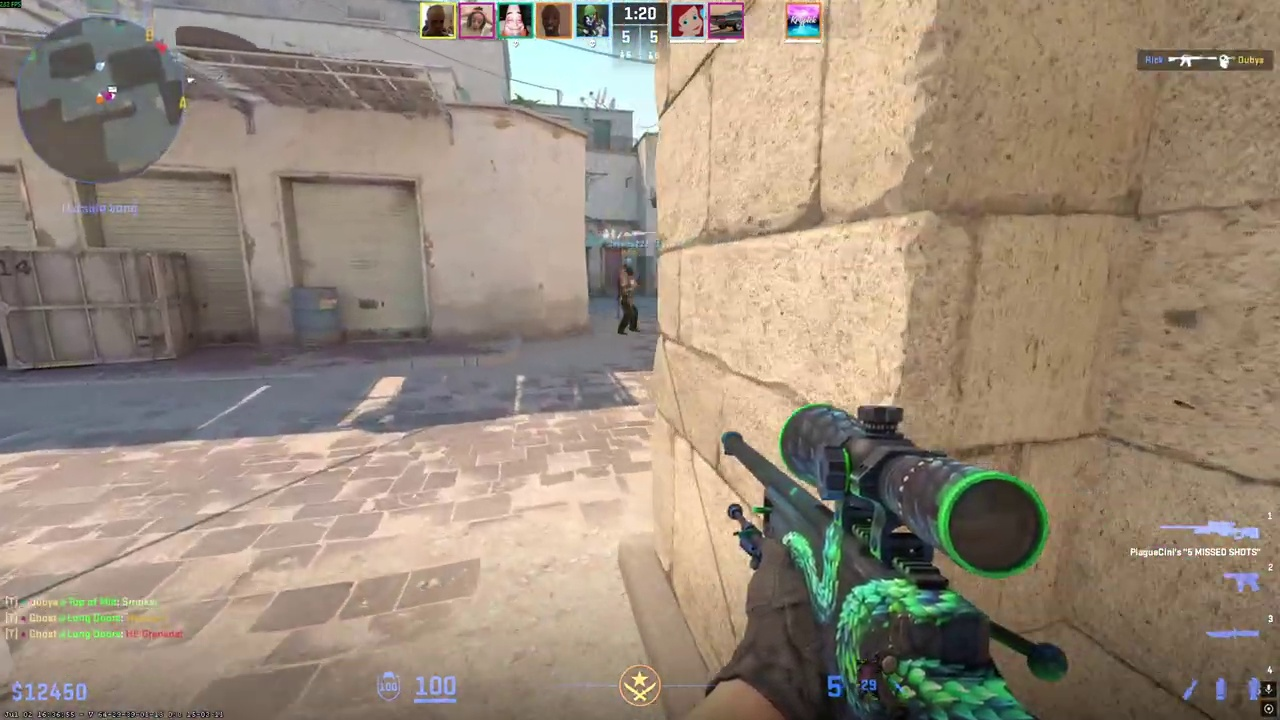Terrorist: (617, 267, 641, 335)
